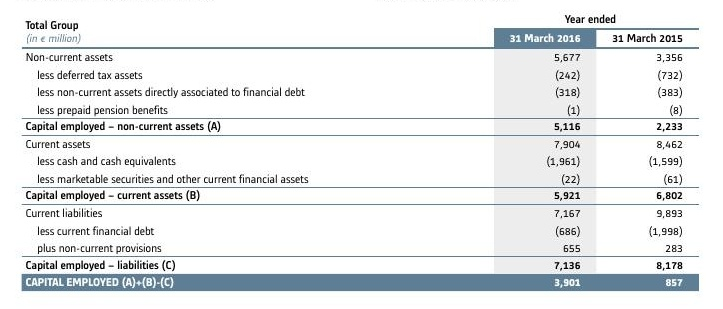table: (0, 0, 723, 309)
